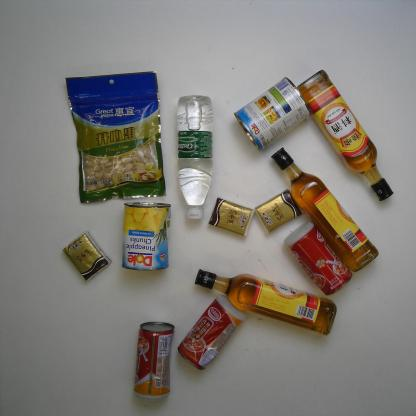Canned Food: (232, 73, 315, 153), (279, 218, 356, 298), (174, 297, 247, 373), (112, 198, 177, 276), (128, 319, 180, 399)
Dried Fruit: (62, 72, 174, 205)
Drink: (169, 90, 221, 222)
Seasoner: (264, 143, 382, 274), (292, 63, 396, 206), (190, 263, 344, 335)
Tissue: (62, 228, 111, 281), (250, 188, 303, 233), (207, 194, 256, 236)
